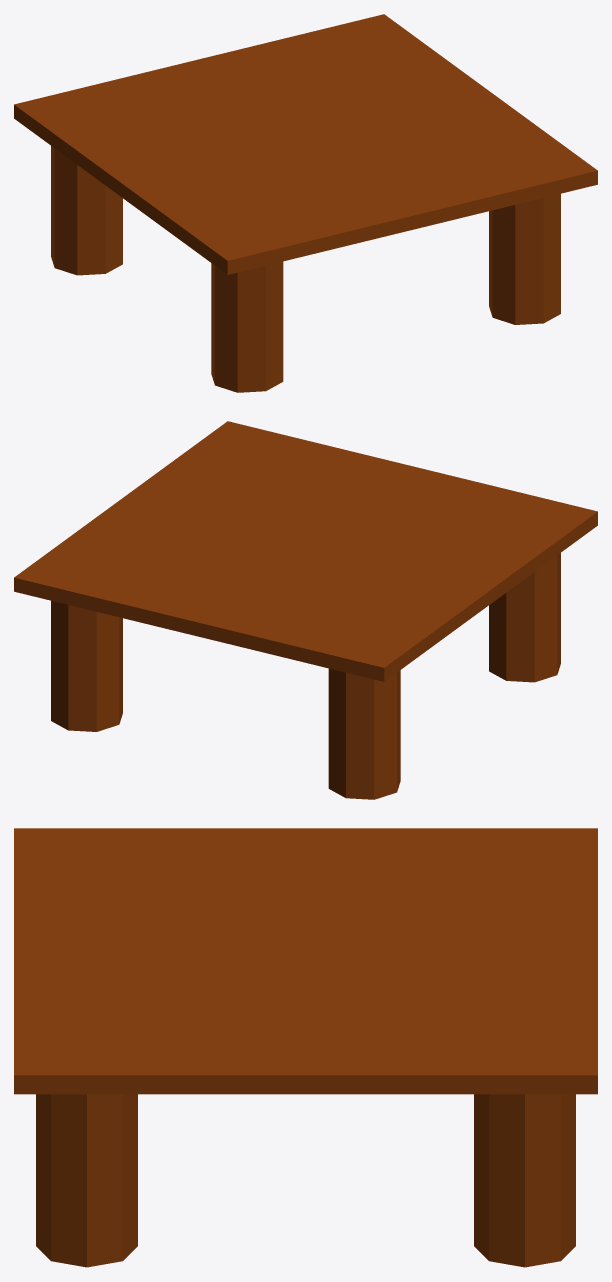
File: Table.fbx
3 views of the same model, one above another, from view 1: azimuth 30°, elevation 25°; view 2: azimuth 150°, elevation 25°; view 3: azimuth 270°, elevation 25° (orthographic). The views are drawn at different scales.
Parts seen in each view (by area): view 1: Blat, Leg 4, Leg 3, Leg 2; view 2: Blat, Leg 2, Leg 1, Leg 4; view 3: Blat, Leg 1, Leg 3.
Boxes of the visible parts, x1,y1,x2,y2 form: Blat: (14, 14, 597, 274); Leg 4: (211, 261, 283, 392); Leg 3: (489, 193, 560, 324); Leg 2: (51, 146, 122, 275); Blat: (14, 421, 597, 681); Leg 2: (328, 668, 400, 799); Leg 1: (51, 600, 122, 731); Leg 4: (489, 553, 560, 682); Blat: (14, 828, 597, 1094); Leg 1: (474, 1094, 575, 1267); Leg 3: (36, 1094, 137, 1267).
Size of the model in its own units: 800 by 305 by 800.
